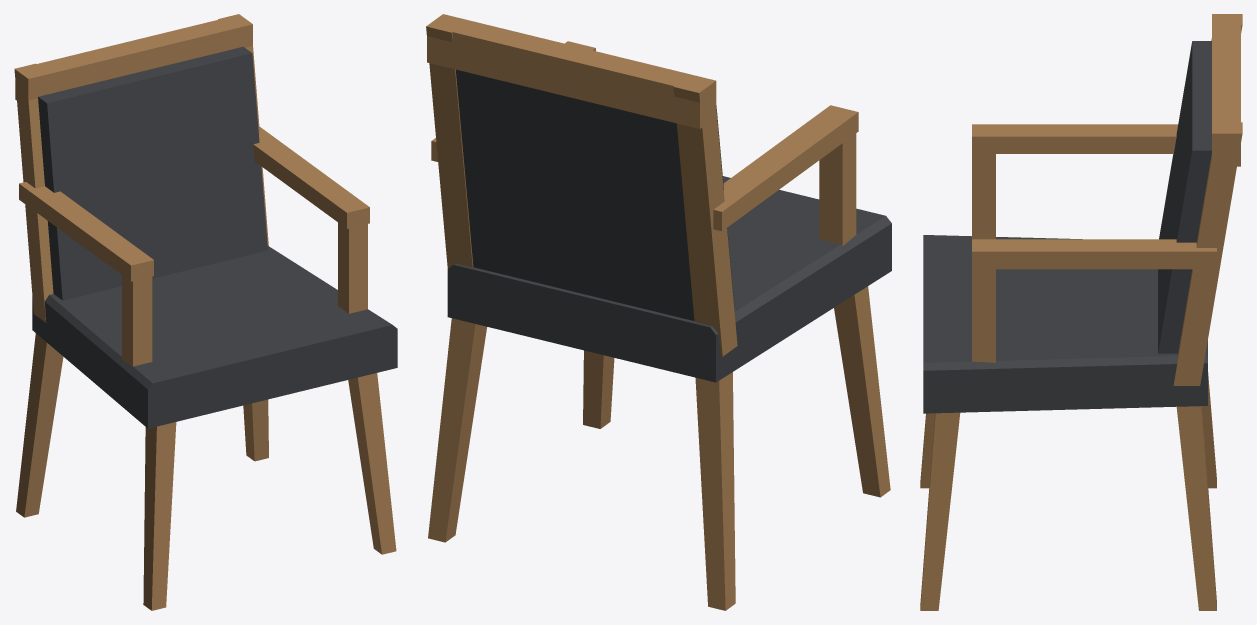
The model's file is FN_Chair_Dining_Arm.obj.
The picture shows the model from 3 angles, left to right: view 1: azimuth 30°, elevation 25°; view 2: azimuth 150°, elevation 25°; view 3: azimuth 270°, elevation 25°; orthographic projection. The views are drawn at different scales.
Parts seen in each view (by area): view 1: FN_Chair_Dining_Arm; view 2: FN_Chair_Dining_Arm; view 3: FN_Chair_Dining_Arm.
Boxes of the visible parts, x1,y1,x2,y2 form: FN_Chair_Dining_Arm: (14,14,397,610); FN_Chair_Dining_Arm: (426,14,891,610); FN_Chair_Dining_Arm: (920,14,1242,610).
Bounding box in the file's own units: 0.52 × 0.86 × 0.532.
1 material, 1 textured.
